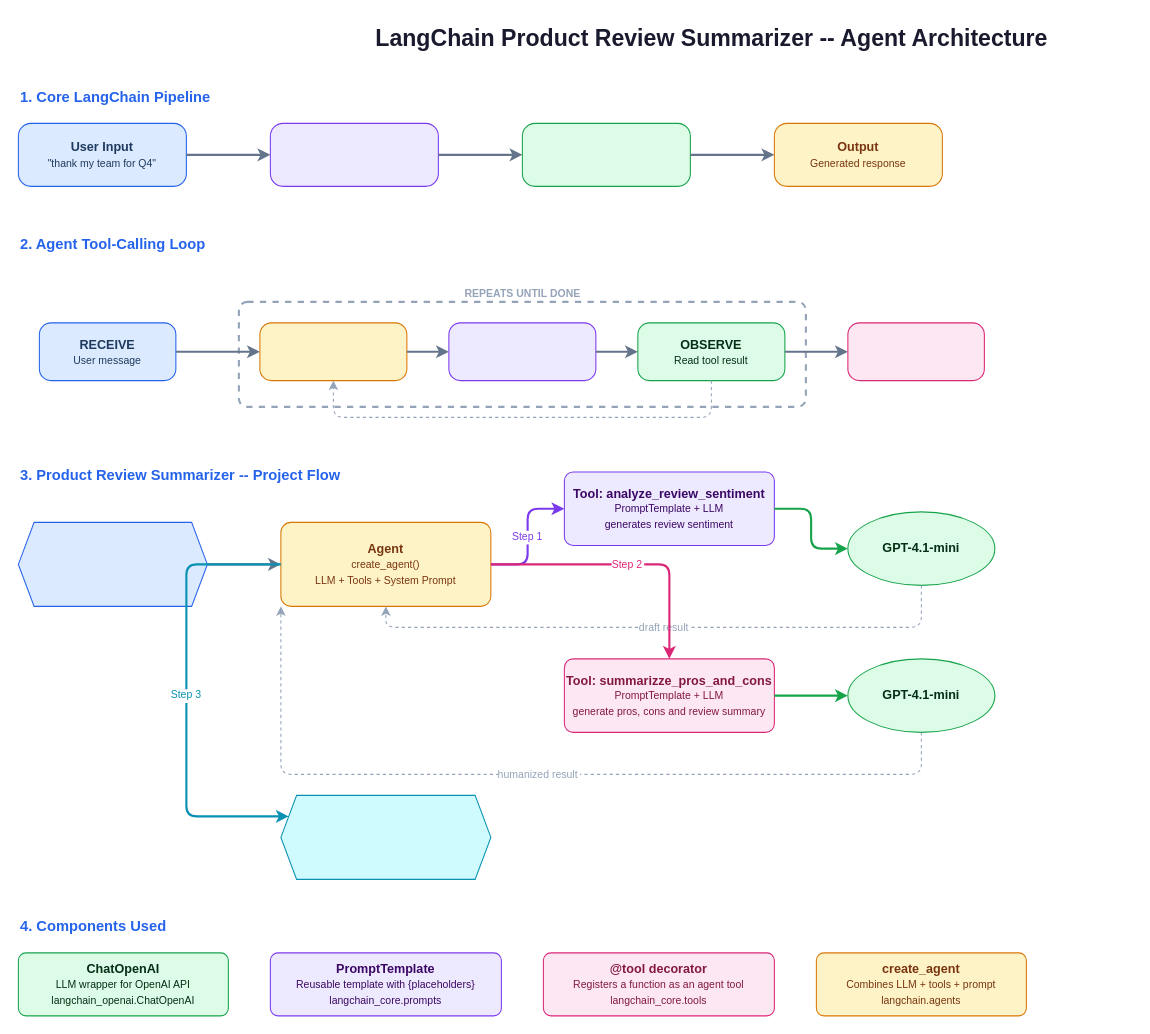
This 1150x1034 diagram has some shape labels left out. The shapes that lost their labels are listed below. From the top down, each one's centre as x and y in pixels, then its label:
pixel 353 154: Prompt Template Fills {placeholders}
pixel 605 154: LLM (OpenAI GPT) Generates text
pixel 333 351: THINK LLM decides next step
pixel 522 351: ACT Call a tool
pixel 915 351: RESPOND Final answer
pixel 112 563: User "a batch of reviews"
pixel 385 836: Final Summary - pros - cons - review summary
